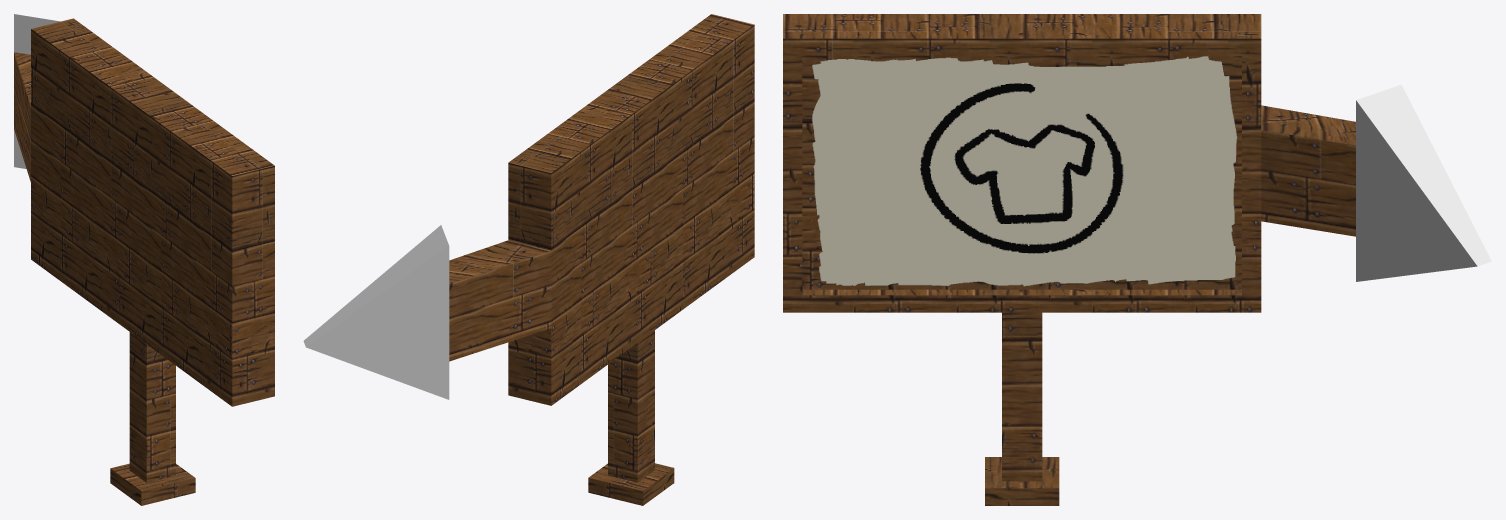
File: cartel_ropa.fbx
3 views of the same model, side by side, from view 1: azimuth 30°, elevation 25°; view 2: azimuth 150°, elevation 25°; view 3: azimuth 270°, elevation 25° (orthographic). The views are drawn at different scales.
Visible parts, largest first — view 1: cartel; view 2: cartel; view 3: cartel.
Part boxes in pixels (left/top/right/bottom): cartel: left=14, top=14, right=274, bottom=505; cartel: left=303, top=14, right=754, bottom=505; cartel: left=783, top=14, right=1491, bottom=505.
Size of the model in its own units: 485 by 1129 by 1563.
Materials: 3 (2 with a texture image).
